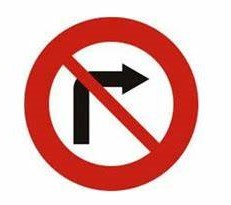No_turn_right: (23, 16, 199, 192)
